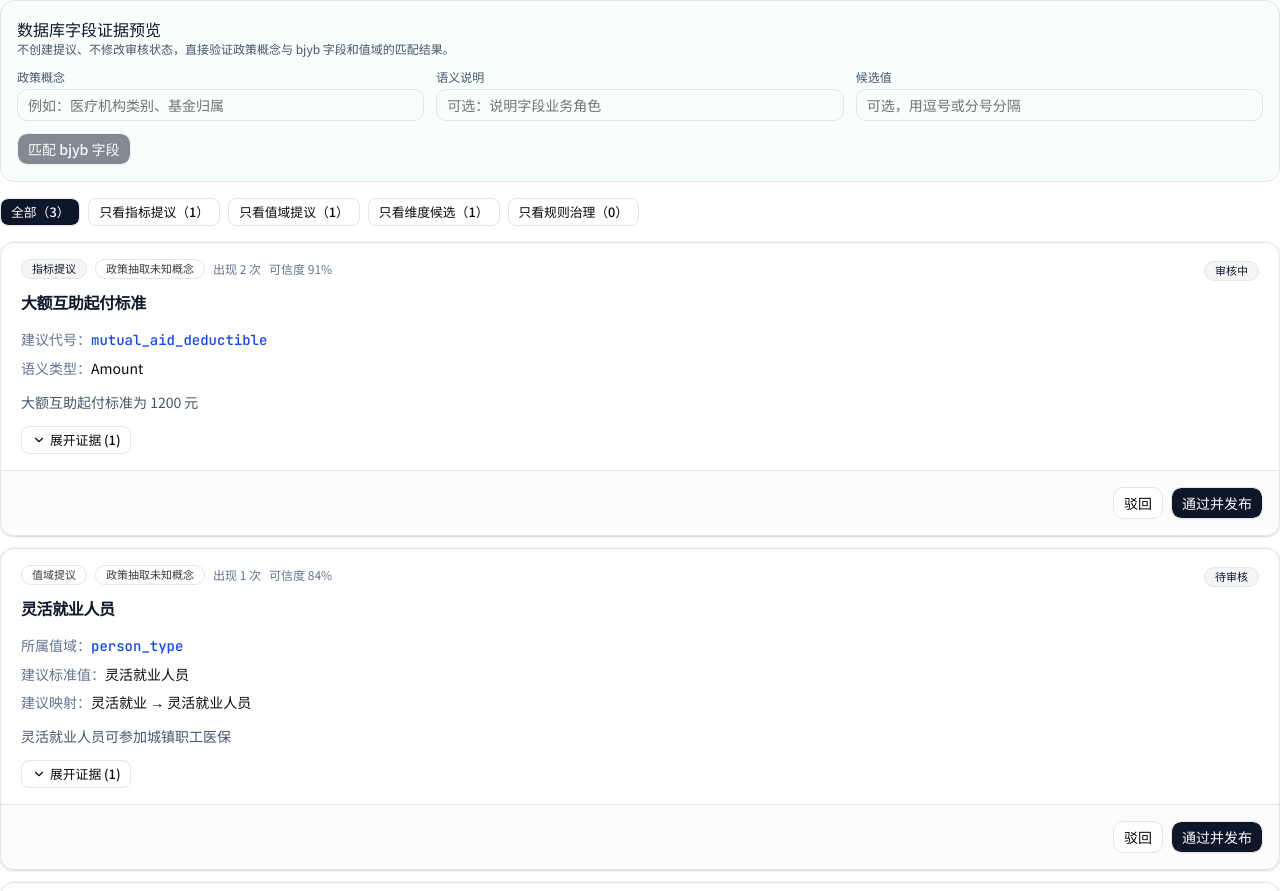
Test case: SemanticProposalsPage › requires a nonblank rejection reason and submits the trimmed value
Click the button with aria-label "驳回 mutual_aid_deductible": (1138, 503) left=1113, top=487, right=1163, bottom=519
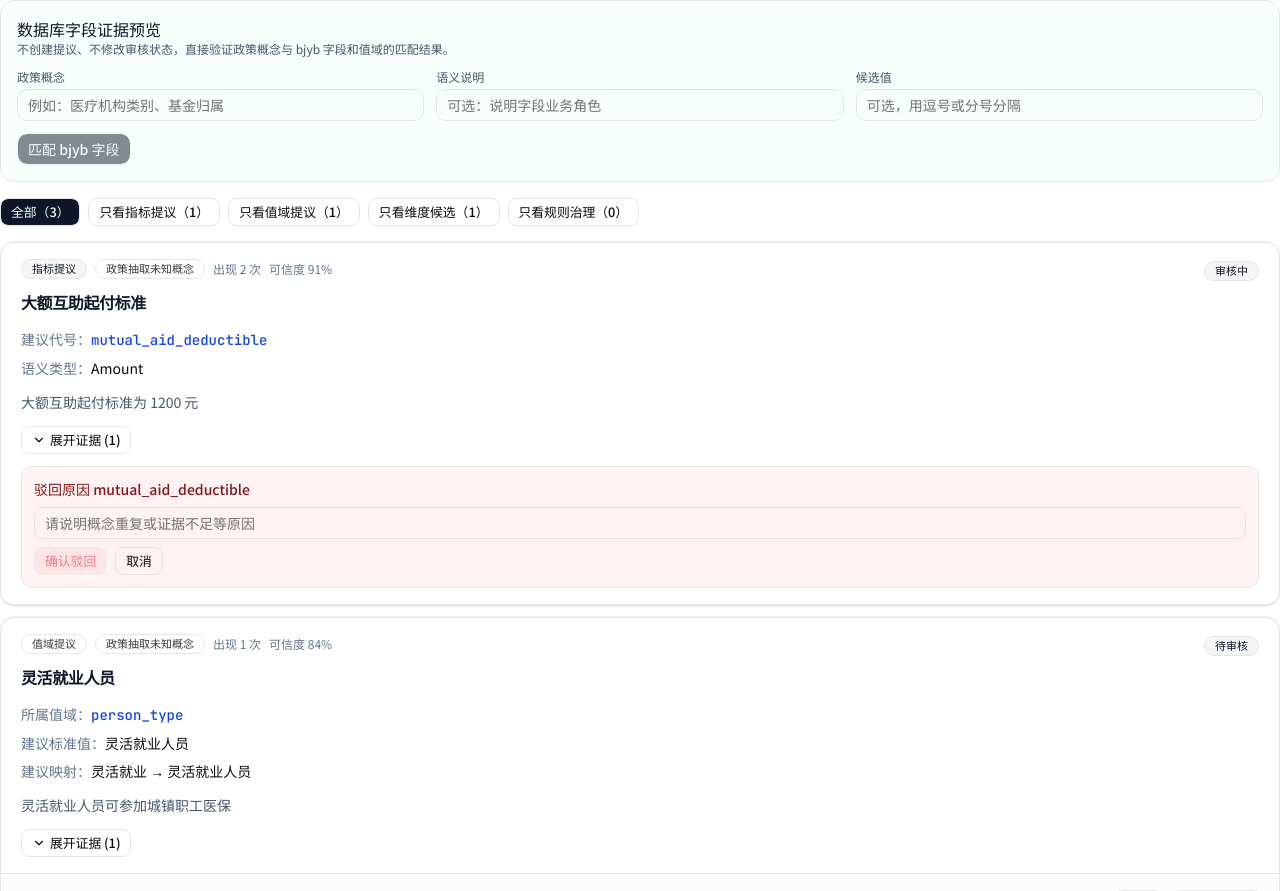
Check: the button with aria-label "确认驳回 mutual_aid_deductible" is disabled, box left=34, top=547, right=107, bottom=575
In the field labelled "驳回原因 mutual_aid_deductible": (640, 523) left=34, top=507, right=1246, bottom=539, type "  概念与现有指标重复  "
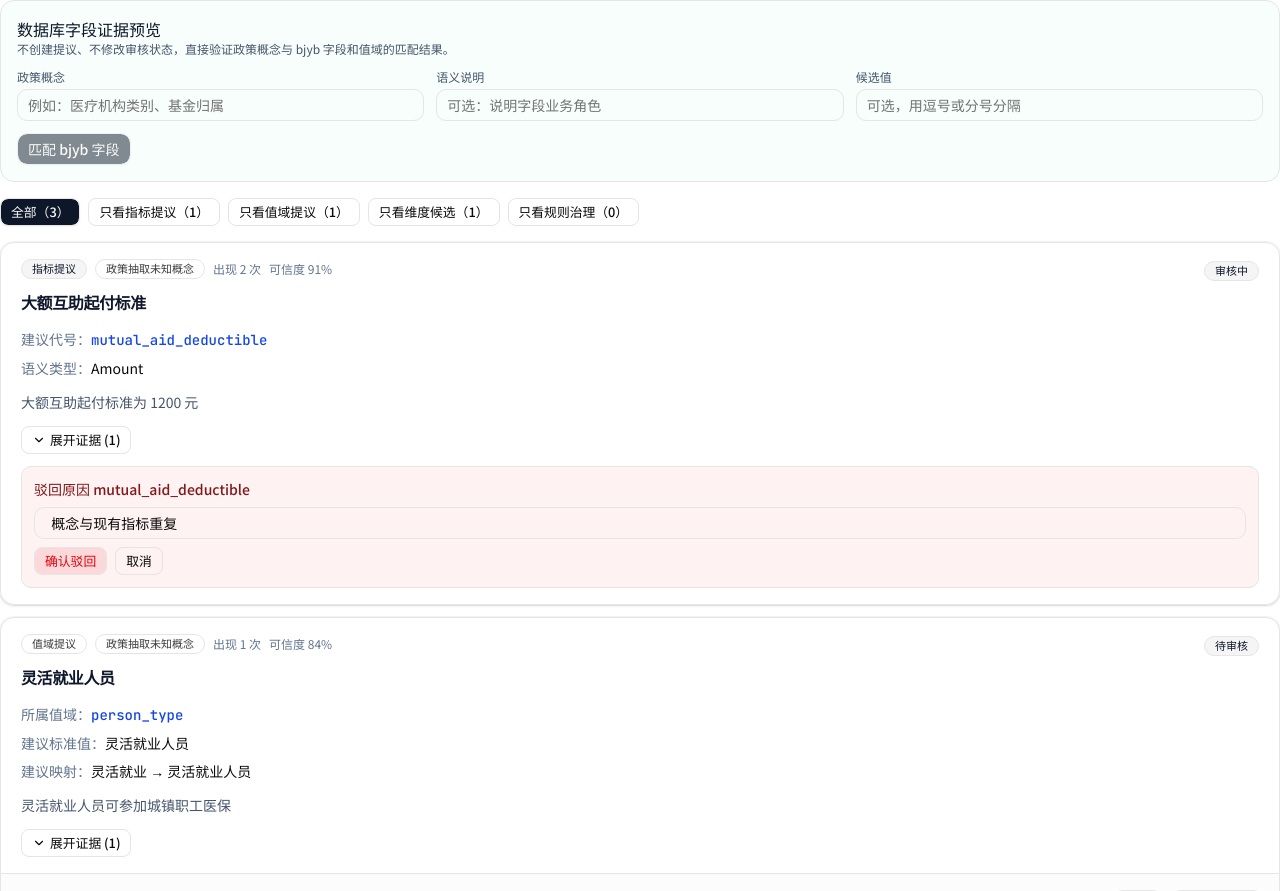
Click the button with aria-label "确认驳回 mutual_aid_deductible": (71, 561) left=34, top=547, right=107, bottom=575
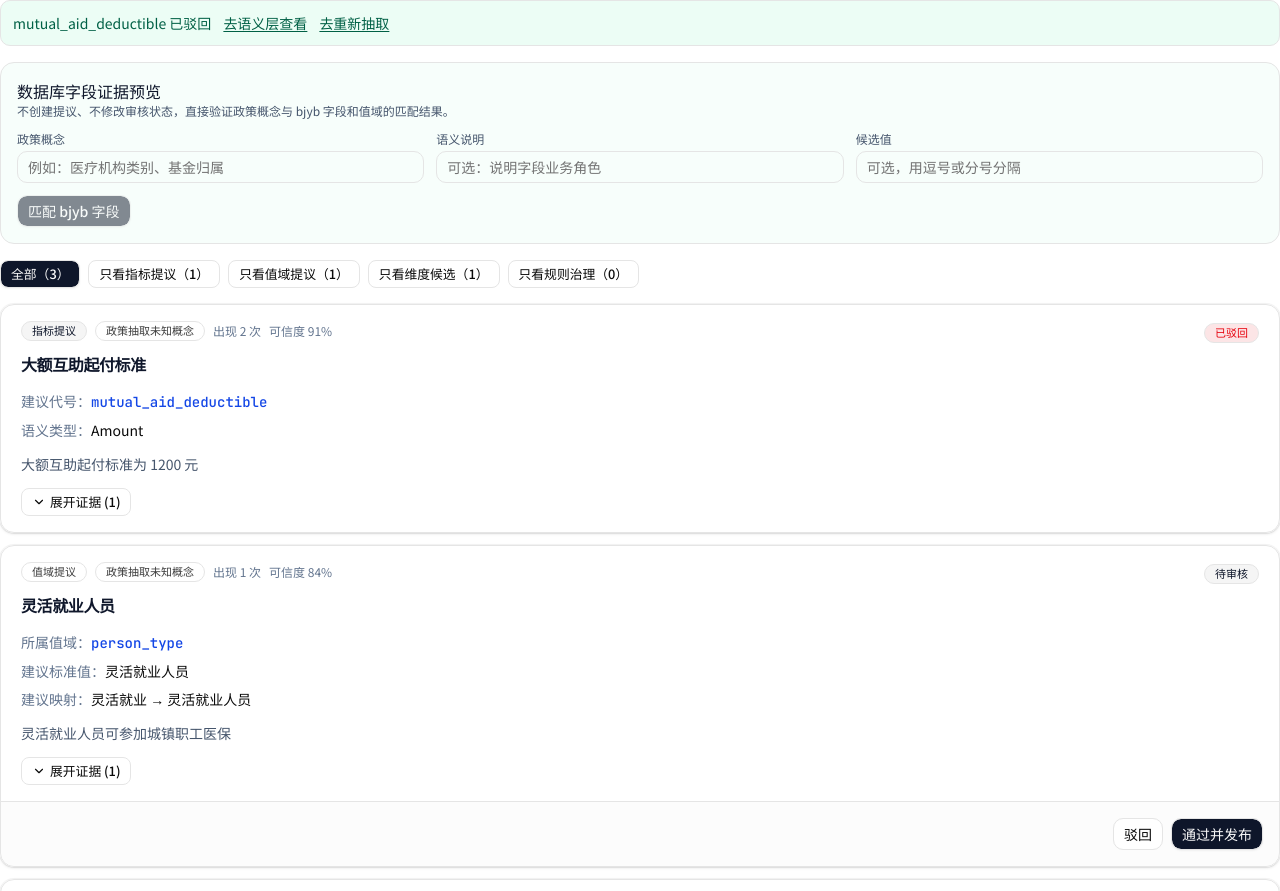
Check: the icon "已驳回" is shown, box left=1204, top=323, right=1259, bottom=343
